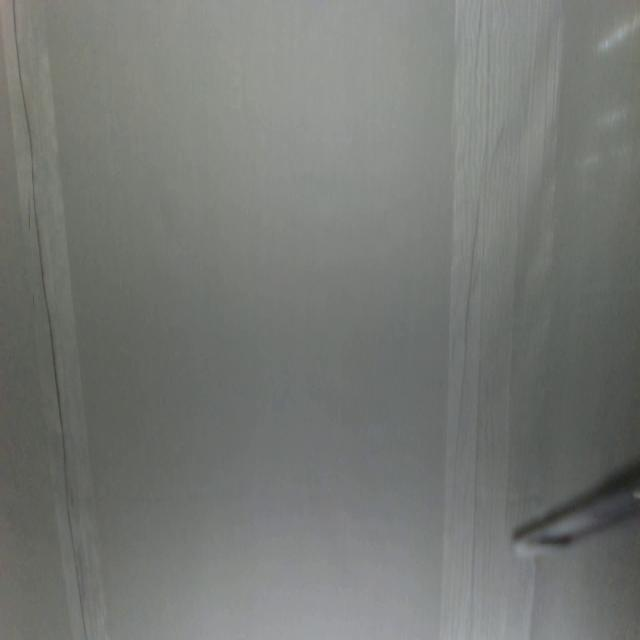crease: (2, 0, 108, 640), (442, 0, 562, 510)
